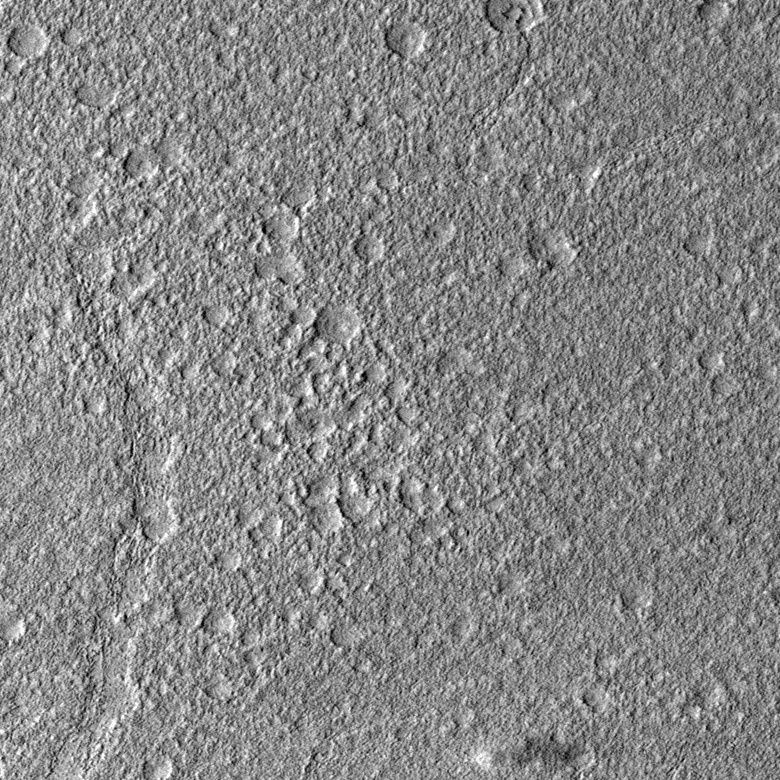dust_devil: (472, 730, 583, 775)
